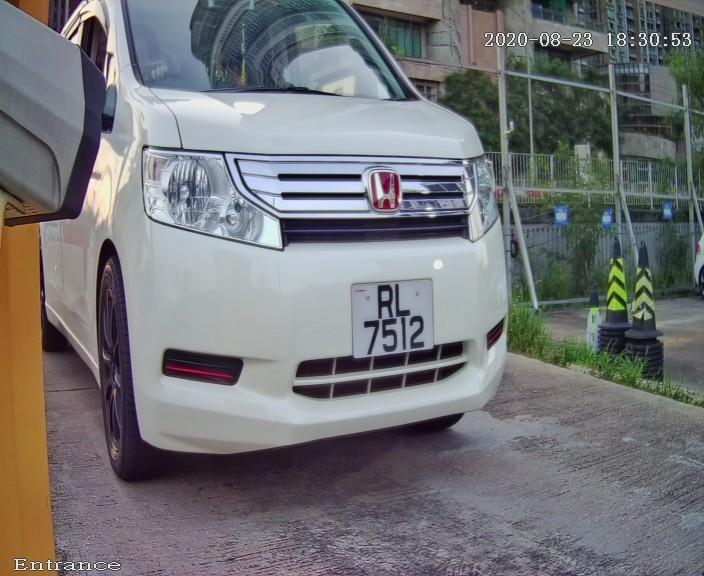Car: (38, 1, 576, 479)
License Plate: (322, 255, 461, 379)
